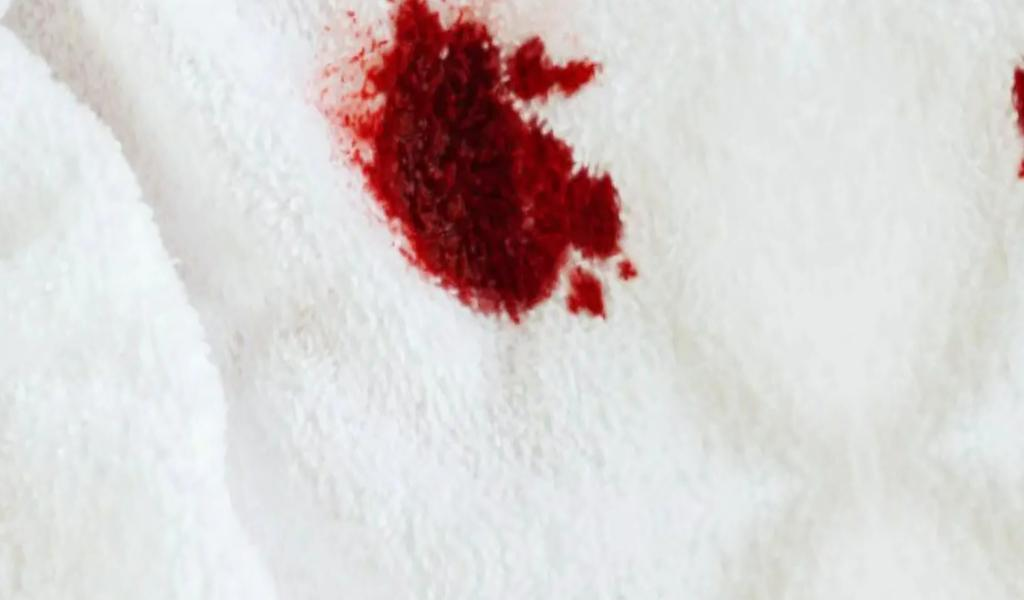stain: (315, 0, 654, 335)
